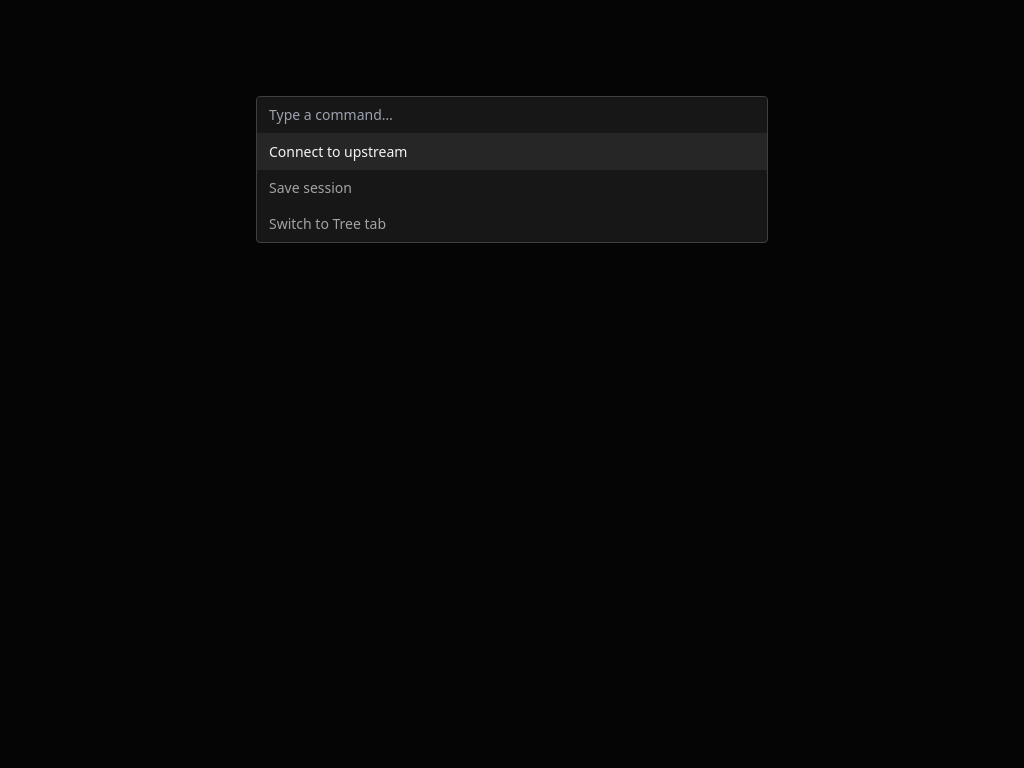
Test: CommandPalette › filters commands by the typed query (case-insensitive)
Type "save" into the field at coordinates (512, 116), box [257,97,767,134]
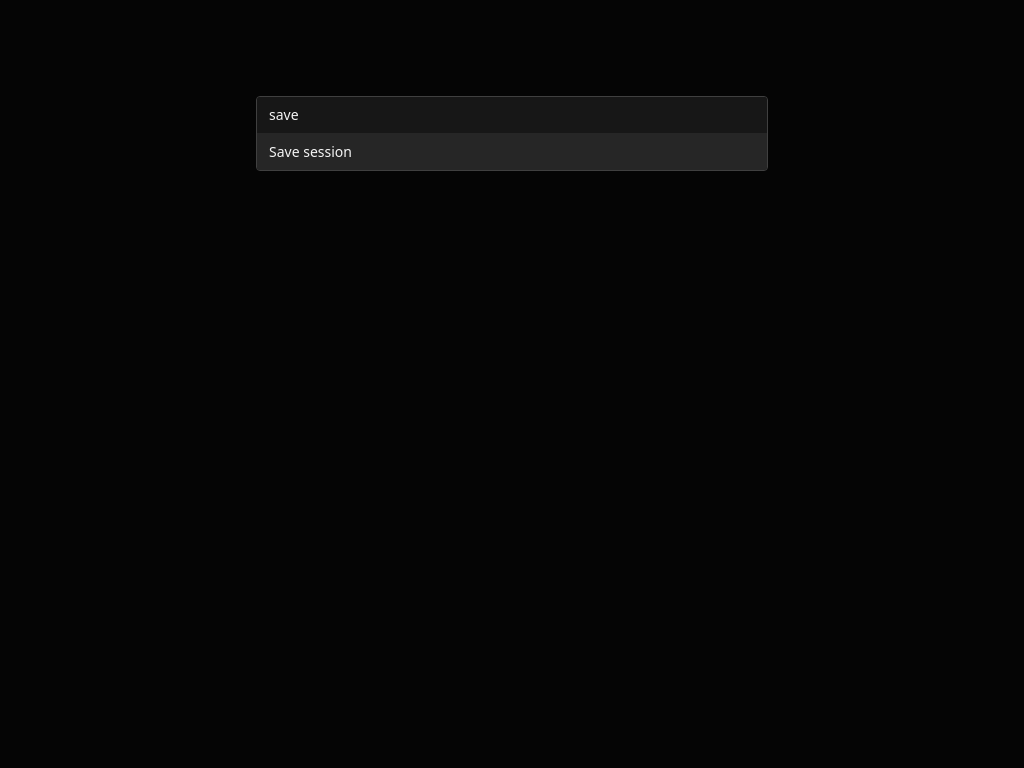
Expected: the list item "Save session" is shown, [257,134,767,170]
Now the list item "Connect to upstream" is gone
